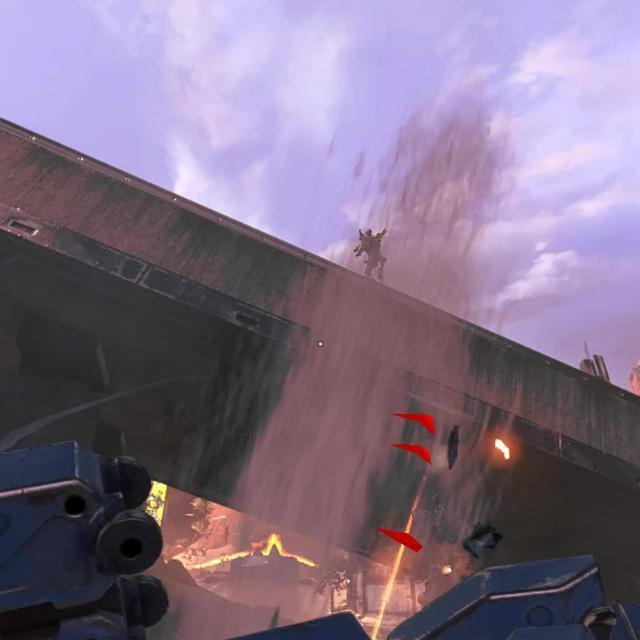avatar: (352, 226, 390, 279)
